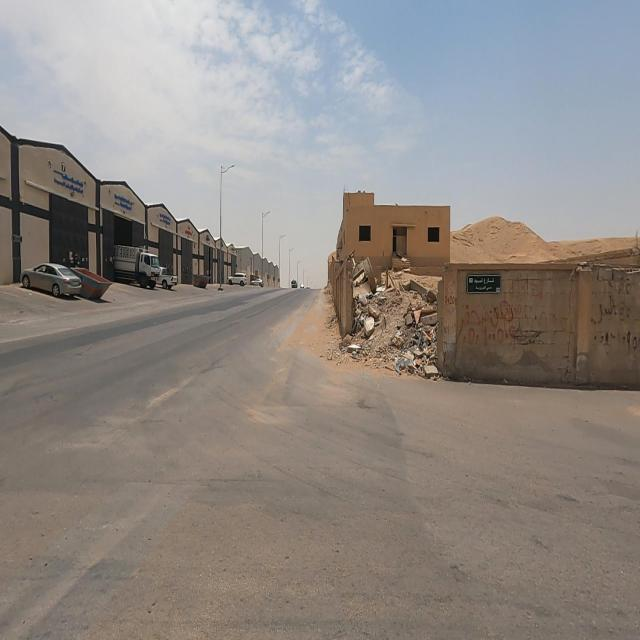Graffiti: (517, 277, 574, 352), (593, 281, 639, 361), (461, 302, 515, 351), (445, 294, 459, 309)
